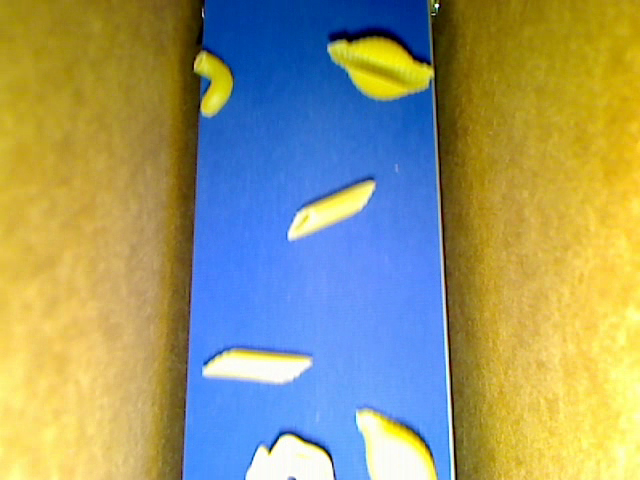elbow: (194, 51, 233, 116)
penne: (286, 180, 374, 241), (202, 346, 312, 384)
shell: (327, 37, 433, 99), (355, 409, 437, 479)
tortellini: (244, 431, 334, 479)
